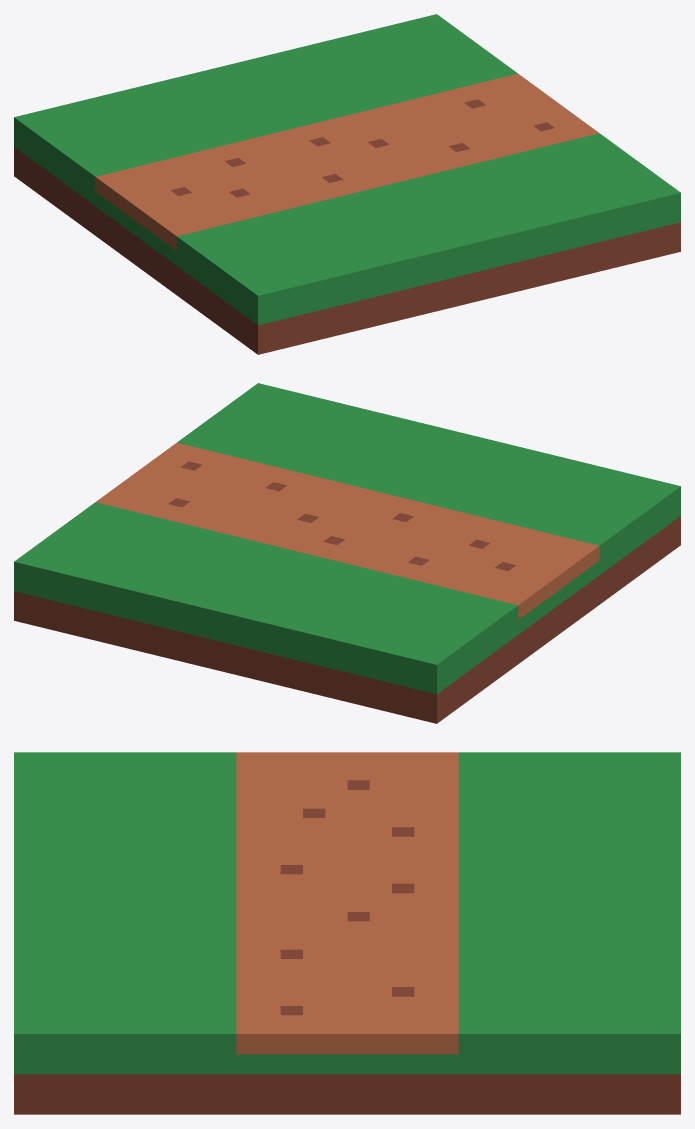
File: DirtPathStraight01.obj
3 renders of one model, top to bottom at view 1: azimuth 30°, elevation 25°; view 2: azimuth 150°, elevation 25°; view 3: azimuth 270°, elevation 25°, orthographic. The views are drawn at different scales.
Size of the model in its own units: 3 by 0.4 by 3.
Materials: 1 (1 with a texture image).
